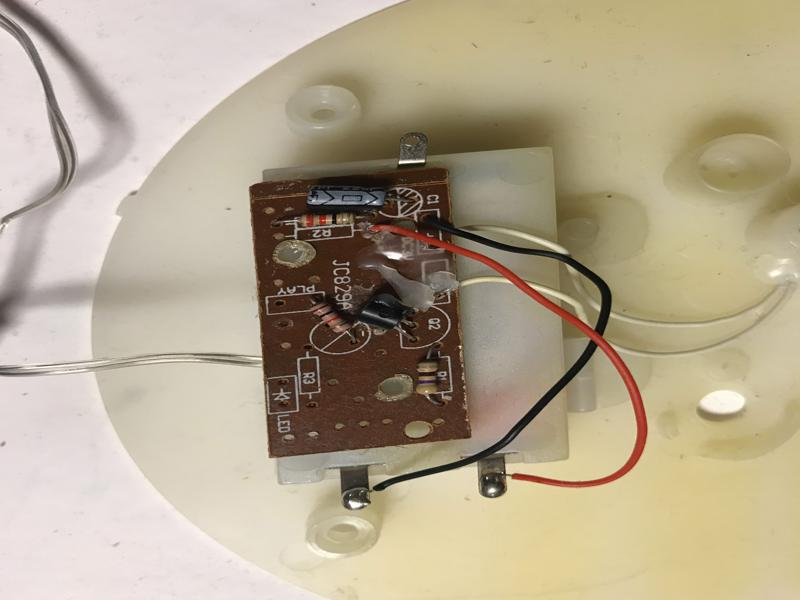Capacitor: (306, 179, 392, 213)
Resistor: (307, 294, 355, 338), (294, 208, 357, 230), (414, 353, 439, 401)
